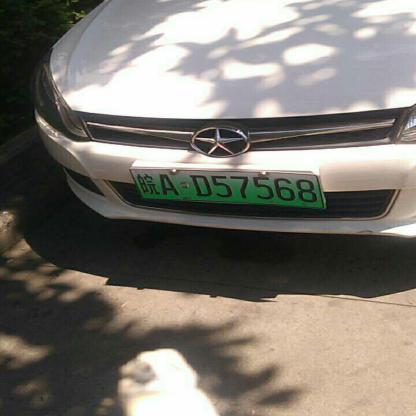lp: (129, 169, 324, 208)
